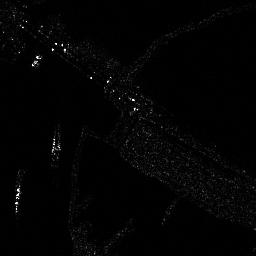ship: (49, 131, 62, 161), (11, 186, 22, 214)
